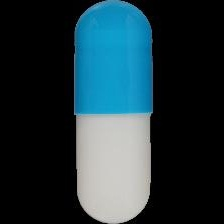0093-7543: (0, 0, 224, 224)
